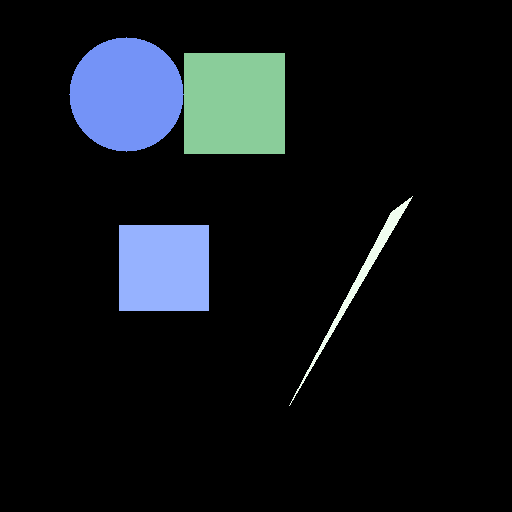circle: (72, 38, 284, 153)
square: (119, 225, 208, 310)
